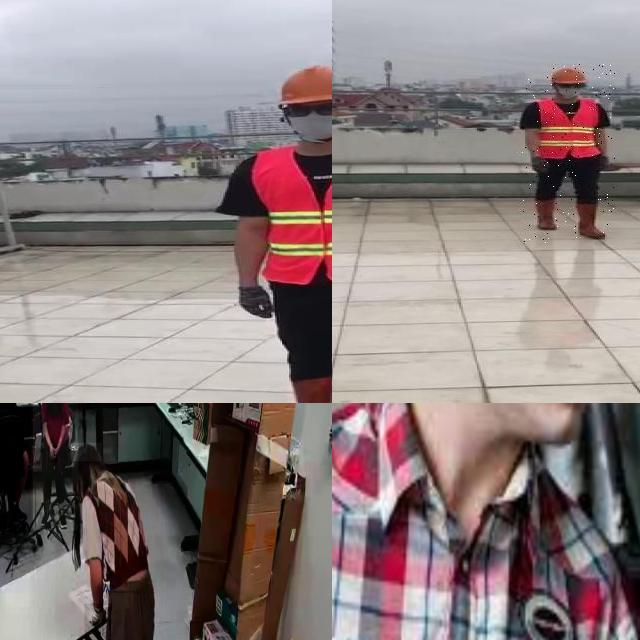Ear-protection: (382, 403, 640, 471)
boots: (276, 378, 332, 403), (574, 203, 610, 240), (532, 198, 559, 227)
hand_glove: (84, 603, 111, 640)
hand_noglove: (48, 444, 56, 462), (52, 445, 58, 463)
head_helmet: (271, 64, 332, 108), (549, 66, 589, 86)
head_nohelmet: (71, 443, 102, 461)
person: (214, 64, 332, 403), (55, 443, 163, 640), (520, 64, 616, 243), (31, 403, 78, 530), (0, 403, 33, 533)
vest: (248, 140, 332, 286), (532, 100, 602, 159)
